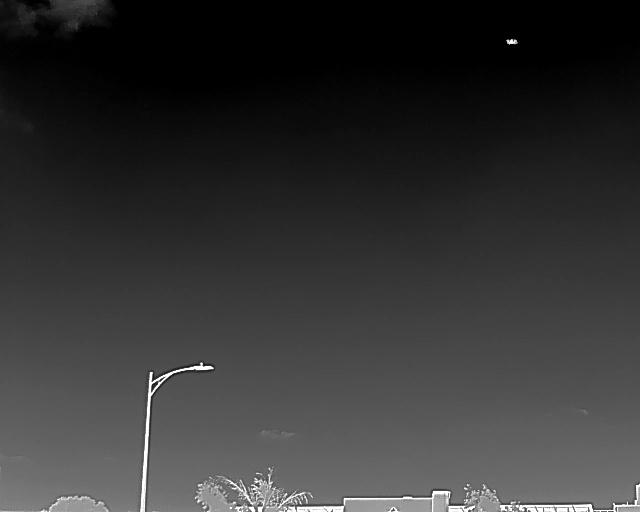fpv-drone: (506, 39, 517, 44)
